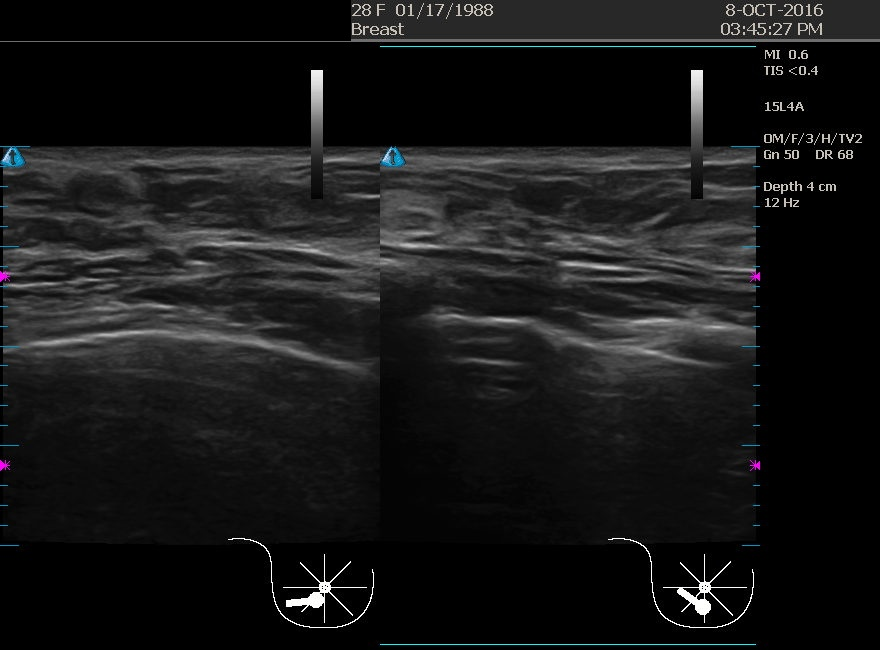BIRADS_2: (107, 150, 307, 351), (452, 155, 652, 355)
